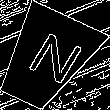N_SW: (12, 27, 80, 91)
